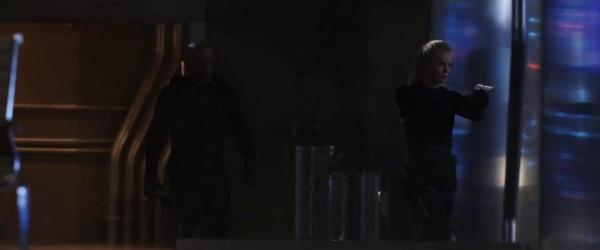Gun: (473, 83, 496, 95)
